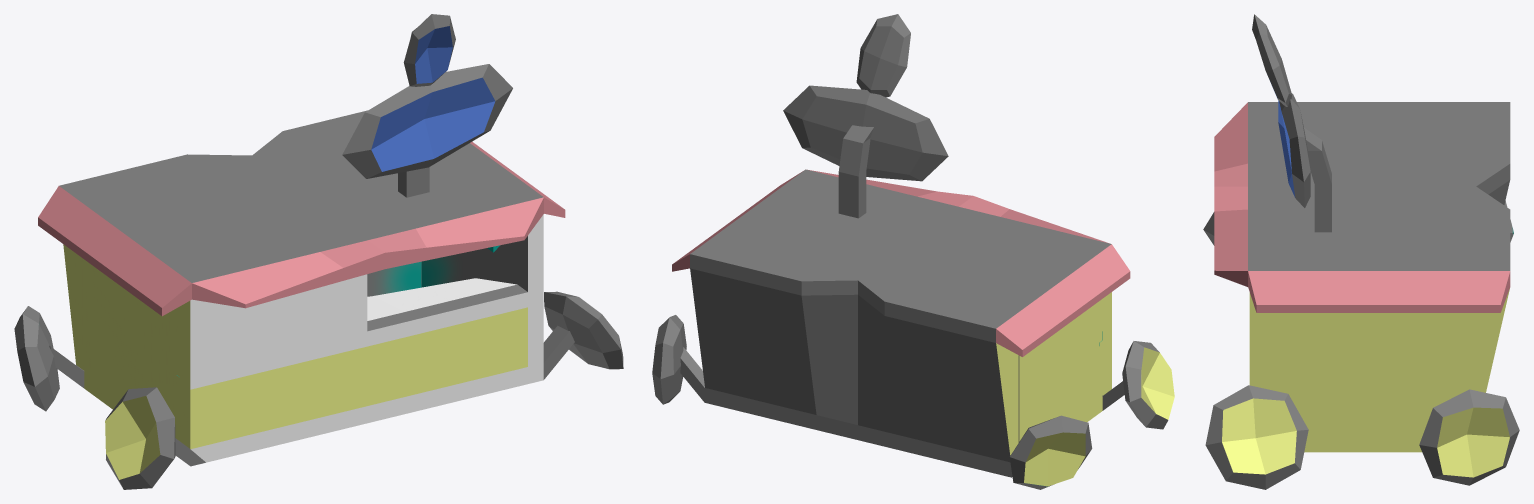
Rendered from foodtruck.glb.
The picture shows the model from 3 angles, left to right: view 1: azimuth 30°, elevation 25°; view 2: azimuth 150°, elevation 25°; view 3: azimuth 270°, elevation 25°; orthographic projection. The views are drawn at different scales.
Visible parts, largest first — view 1: Cube.044; view 2: Cube.044; view 3: Cube.044.
Boxes of the visible parts, box(x1,y1,x2,y2) form: Cube.044: box(14, 14, 623, 489); Cube.044: box(652, 14, 1174, 489); Cube.044: box(1203, 14, 1519, 489).
Size of the model in its own units: 4.12 by 3.21 by 2.31.
Materials: 7 (1 with a texture image).
